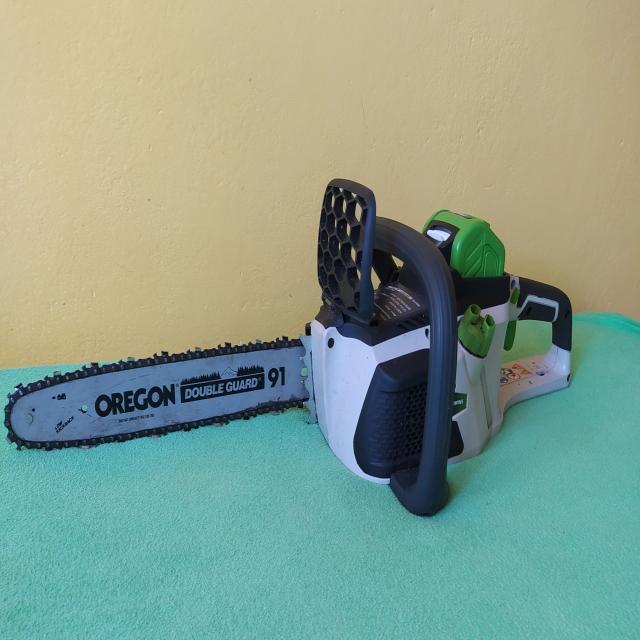Chainsaw: (7, 171, 580, 547)
